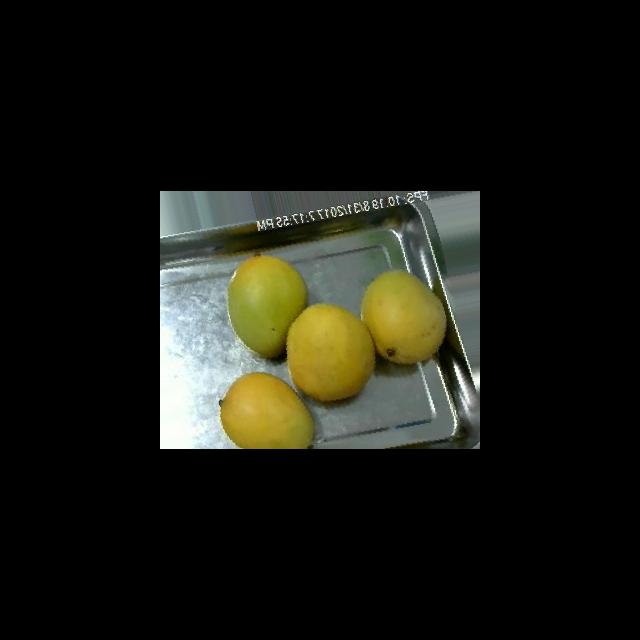Mango: (285, 302, 376, 401), (226, 254, 308, 359), (360, 269, 447, 365), (218, 371, 315, 448)
